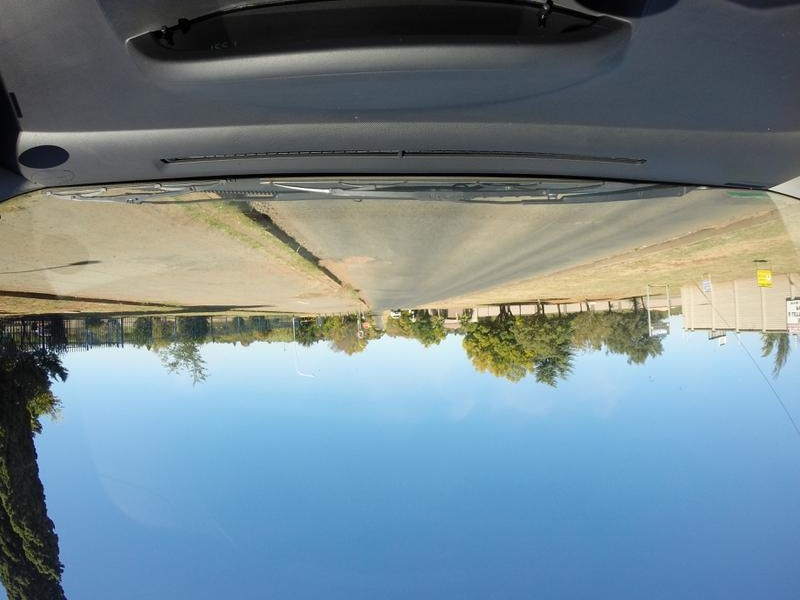pothole: (322, 253, 385, 273)
